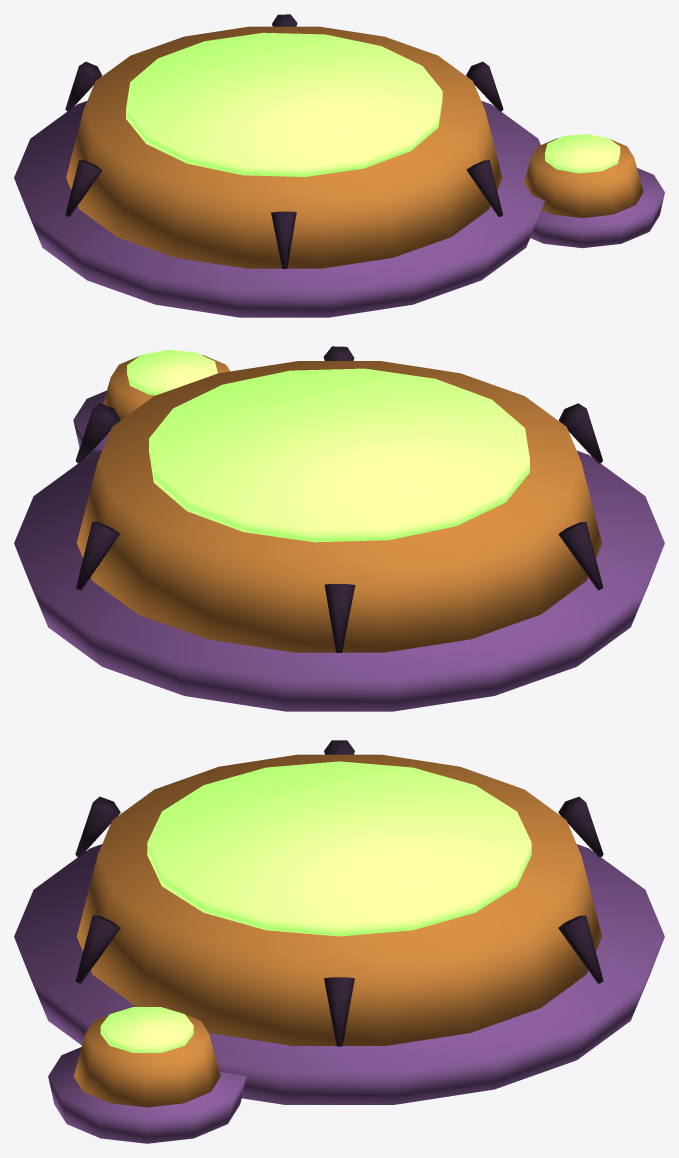
Rendered from b_spawning_pool.glb.
3 views of the same model, one above another, from view 1: azimuth 30°, elevation 25°; view 2: azimuth 150°, elevation 25°; view 3: azimuth 270°, elevation 25° (orthographic). The views are drawn at different scales.
Visible parts, largest first — view 1: sp2_ring.001, sp2_water.001, sp2_base.001, sp2_sring.001, sp2_sbase.001, sp2_swater.001, sp2_spk4.001, sp2_spk3.001, sp2_spk5.001, sp2_spk2.001, sp2_spk0.001; view 2: sp2_ring.001, sp2_water.001, sp2_base.001, sp2_swater.001, sp2_sring.001, sp2_spk3.001, sp2_spk1.001, sp2_spk2.001, sp2_spk4.001, sp2_spk0.001, sp2_sbase.001; view 3: sp2_ring.001, sp2_water.001, sp2_base.001, sp2_sring.001, sp2_sbase.001, sp2_swater.001, sp2_spk1.001, sp2_spk5.001, sp2_spk0.001, sp2_spk2.001, sp2_spk4.001.
Boxes of the visible parts, left/top/right/bottom form: sp2_ring.001: left=66, top=26, right=502, bottom=268; sp2_water.001: left=126, top=32, right=442, bottom=176; sp2_base.001: left=14, top=101, right=544, bottom=317; sp2_sring.001: left=524, top=138, right=643, bottom=217; sp2_sbase.001: left=530, top=168, right=664, bottom=248; sp2_swater.001: left=545, top=134, right=620, bottom=173; sp2_spk4.001: left=271, top=211, right=296, bottom=268; sp2_spk3.001: left=65, top=160, right=102, bottom=216; sp2_spk5.001: left=466, top=160, right=502, bottom=216; sp2_spk2.001: left=65, top=61, right=102, bottom=111; sp2_spk0.001: left=466, top=61, right=503, bottom=111; sp2_ring.001: left=77, top=361, right=601, bottom=652; sp2_water.001: left=149, top=368, right=529, bottom=542; sp2_base.001: left=14, top=450, right=664, bottom=711; sp2_swater.001: left=127, top=350, right=217, bottom=395; sp2_sring.001: left=103, top=355, right=229, bottom=434; sp2_spk3.001: left=558, top=522, right=603, bottom=590; sp2_spk1.001: left=76, top=522, right=120, bottom=590; sp2_spk2.001: left=324, top=584, right=355, bottom=652; sp2_spk4.001: left=558, top=403, right=602, bottom=463; sp2_spk0.001: left=75, top=403, right=120, bottom=463; sp2_sbase.001: left=73, top=390, right=108, bottom=457; sp2_ring.001: left=76, top=754, right=602, bottom=1045; sp2_water.001: left=147, top=761, right=531, bottom=936; sp2_base.001: left=14, top=844, right=664, bottom=1104; sp2_sring.001: left=73, top=1011, right=220, bottom=1107; sp2_sbase.001: left=48, top=1047, right=246, bottom=1143; sp2_swater.001: left=100, top=1007, right=193, bottom=1052; sp2_spk1.001: left=558, top=915, right=603, bottom=983; sp2_spk5.001: left=75, top=915, right=120, bottom=983; sp2_spk0.001: left=324, top=977, right=354, bottom=1046; sp2_spk2.001: left=558, top=796, right=603, bottom=857; sp2_spk4.001: left=75, top=796, right=120, bottom=857.
Bounding box in the file's own units: 2.33 × 0.475 × 2.1.
